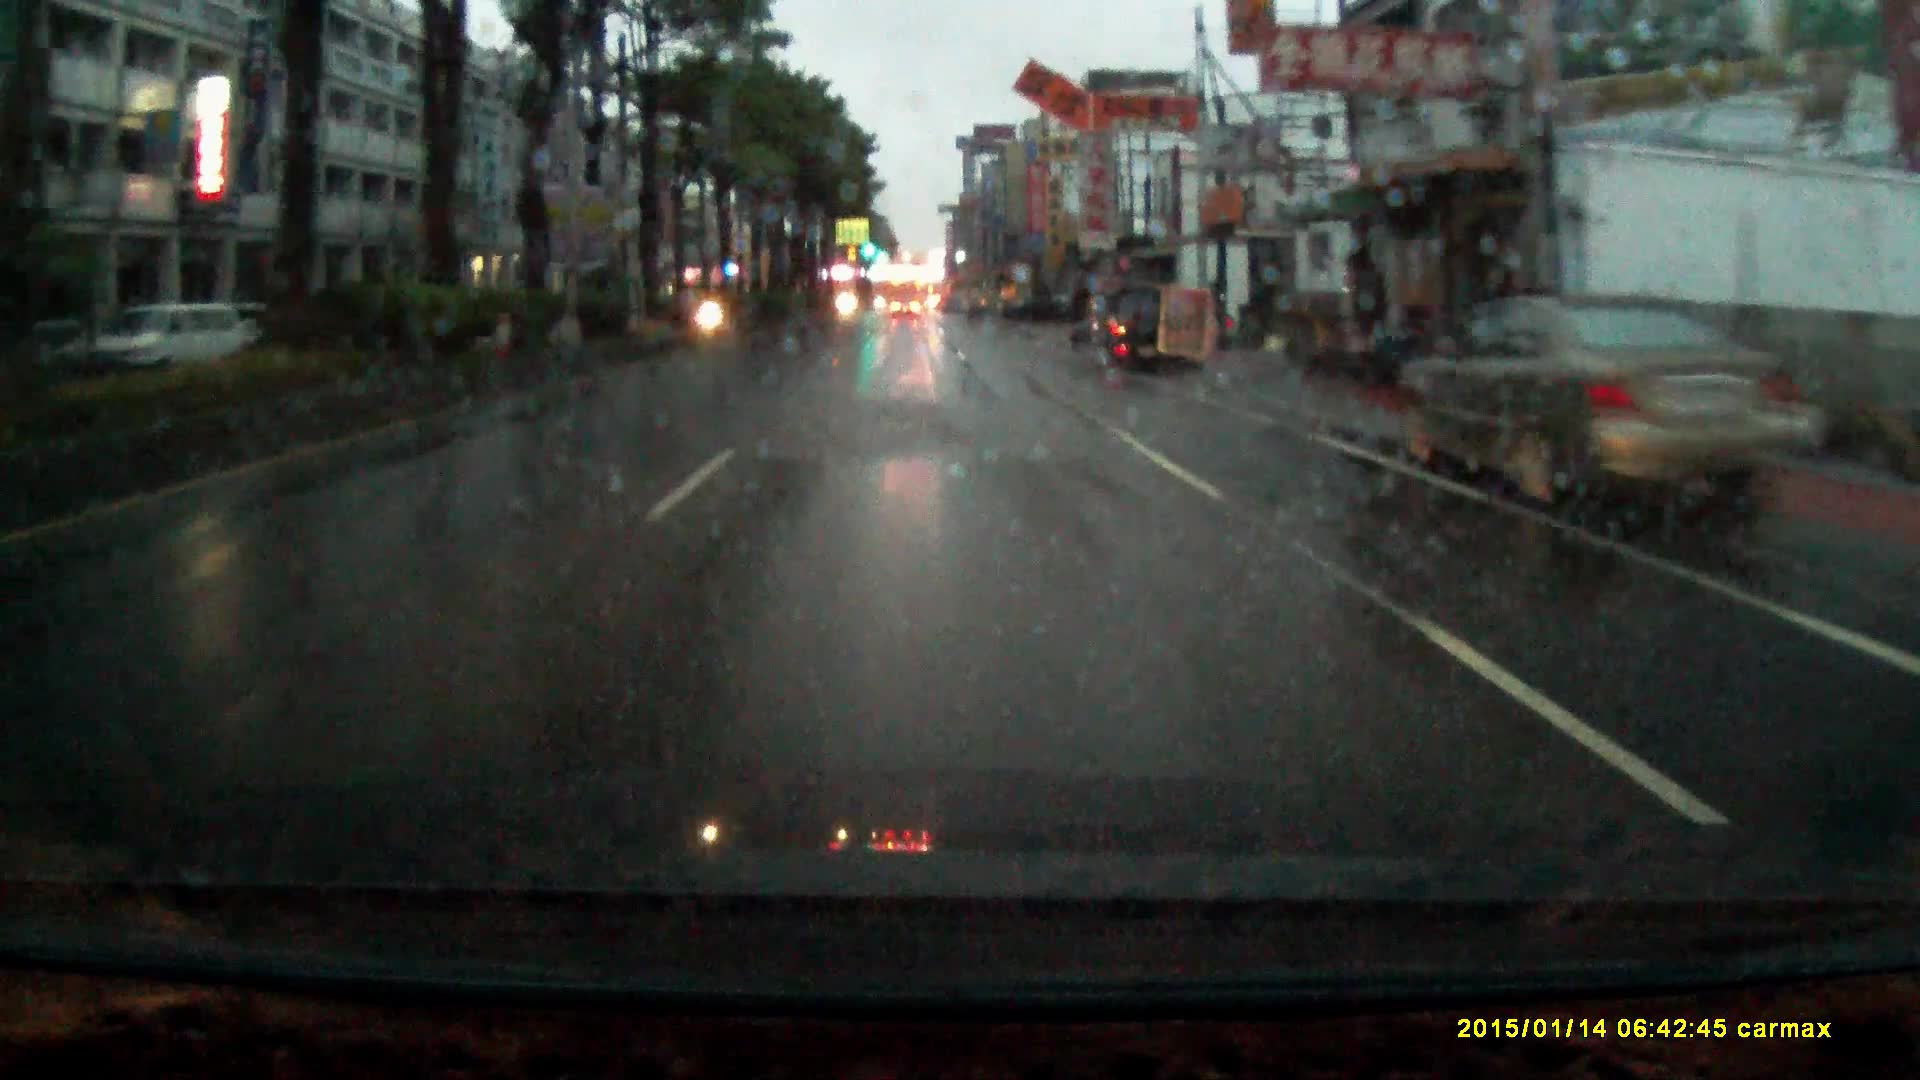vehicle: (1396, 285, 1832, 522), (98, 301, 256, 373), (1075, 280, 1192, 375), (11, 314, 100, 378), (893, 295, 920, 316)
